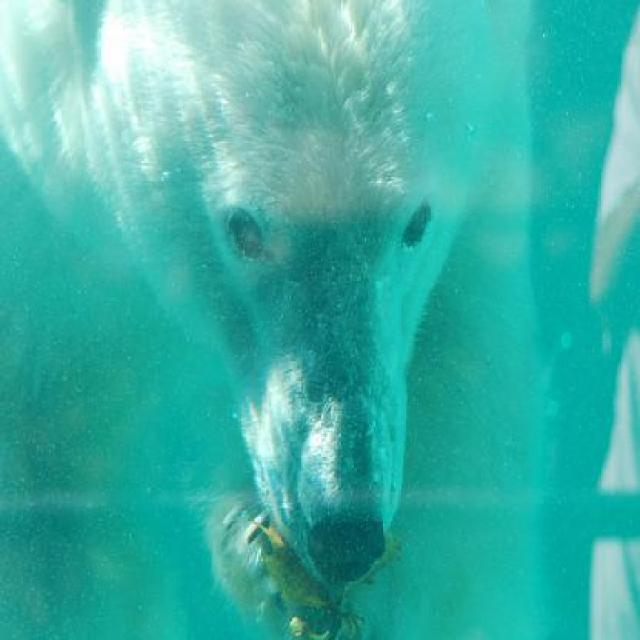Bear: (0, 0, 535, 638)
